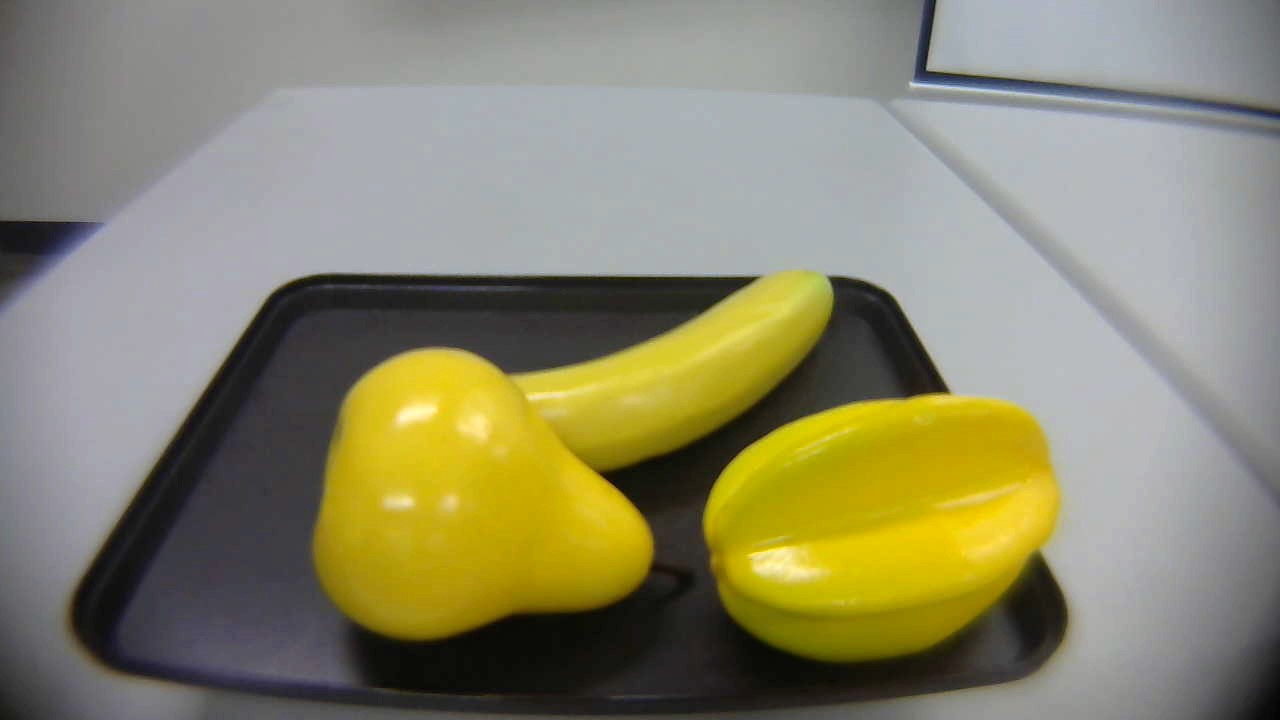banana: (497, 266, 848, 471)
star fruit: (694, 393, 1066, 656)
yellow pear: (304, 340, 710, 668)
